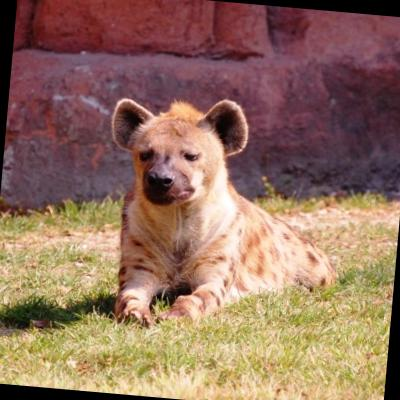hyenas: (68, 81, 360, 360)
